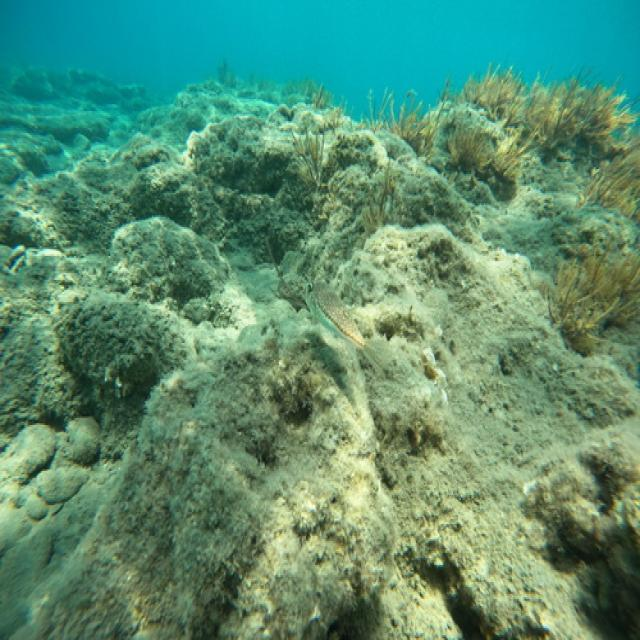Balik: (305, 284, 381, 368)
